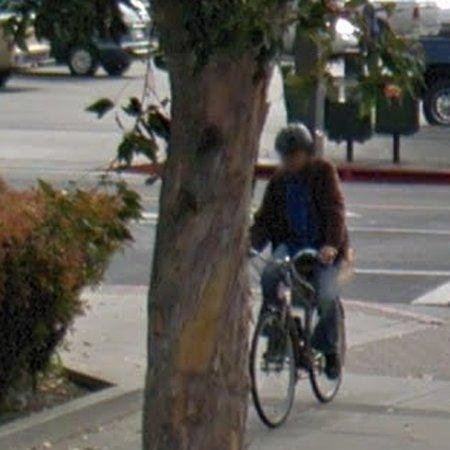bicycles: (250, 249, 343, 428)
